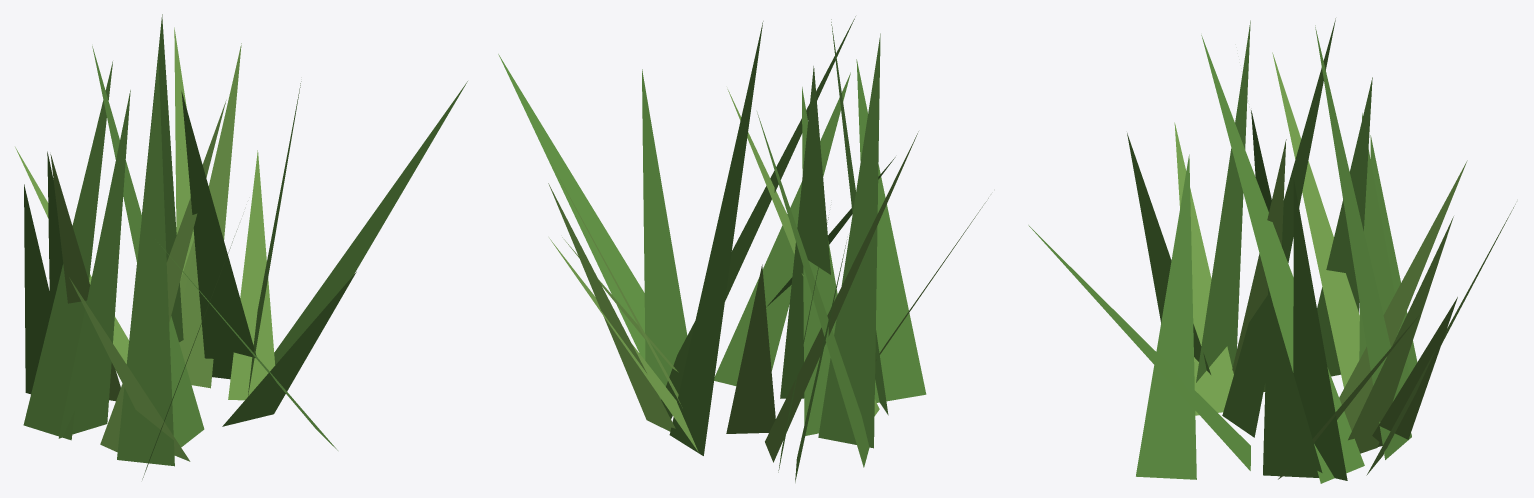
Rendered from detail_grass.glb.
3 renders of one model, left to right at view 1: azimuth 30°, elevation 25°; view 2: azimuth 150°, elevation 25°; view 3: azimuth 270°, elevation 25°, orthographic. The views are drawn at different scales.
Visible parts, largest first — view 1: blades, blades_light; view 2: blades, blades_light; view 3: blades, blades_light.
Boxes of the visible parts, x1=… form: blades: x1=23, y1=14, x2=467, y2=479; blades_light: x1=15, y1=27, x2=275, y2=461; blades: x1=498, y1=16, x2=926, y2=482; blades_light: x1=546, y1=89, x2=988, y2=462; blades: x1=1028, y1=18, x2=1417, y2=483; blades_light: x1=1174, y1=52, x2=1515, y2=479.
Bounding box in the file's own units: 0.5145 × 0.4382 × 0.4811.
